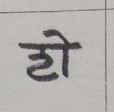i_matra: (48, 29, 76, 76)
